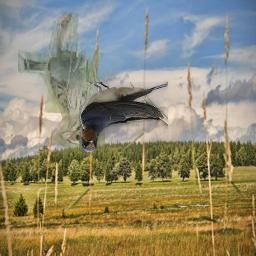Sparrow: (19, 9, 106, 151)
Swallow: (80, 82, 169, 152)
